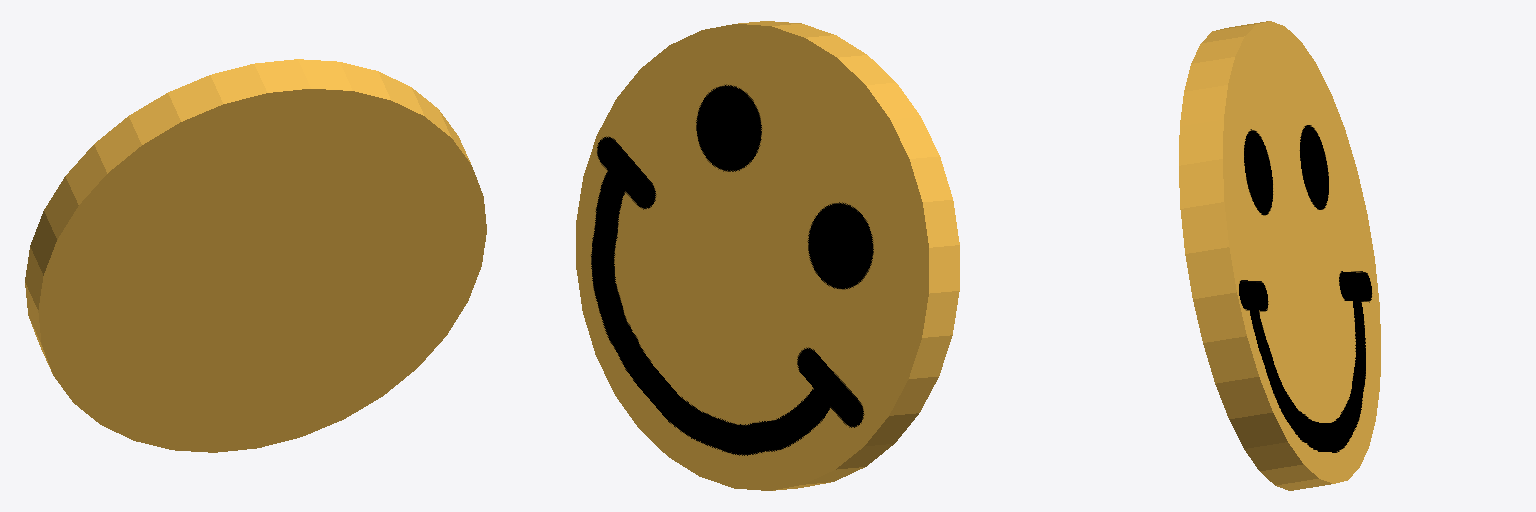
The picture shows the model from 3 angles: view 1: azimuth 30°, elevation 25°; view 2: azimuth 150°, elevation 25°; view 3: azimuth 270°, elevation 25°; orthographic projection.
Parts seen in each view (by area): view 1: 円柱; view 2: 円柱; view 3: 円柱.
Boxes of the visible parts, <box> form: 円柱: <box>25,59,486,452</box>; 円柱: <box>576,21,959,490</box>; 円柱: <box>1179,21,1380,490</box>.
Size of the model in its own units: 92.77 by 92.15 by 40.33.
Materials: 1 (1 with a texture image).